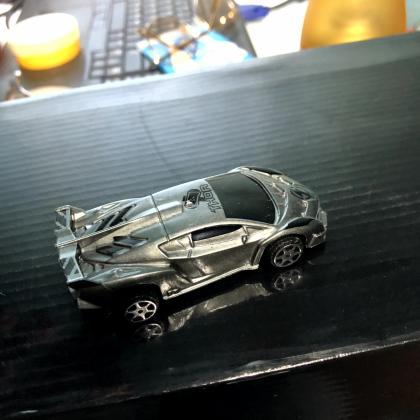Car: (50, 161, 333, 326)
